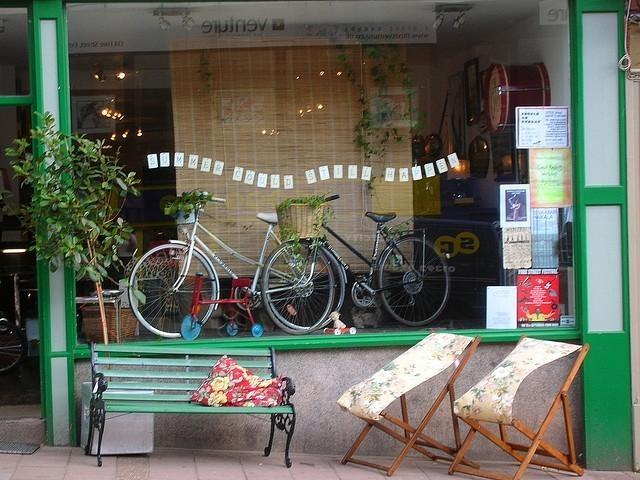bicycle: (256, 191, 454, 334), (128, 189, 280, 338), (1, 318, 27, 374)
